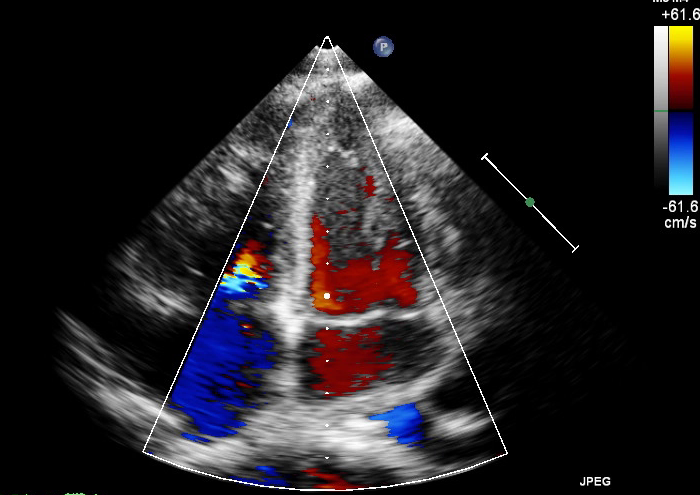TR: (186, 276, 277, 342)
